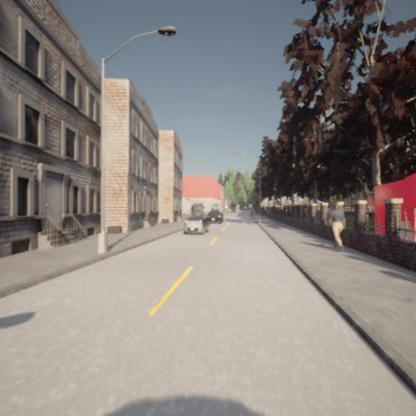person: (329, 201, 346, 251)
vehicle: (184, 213, 207, 235), (206, 210, 224, 223)
